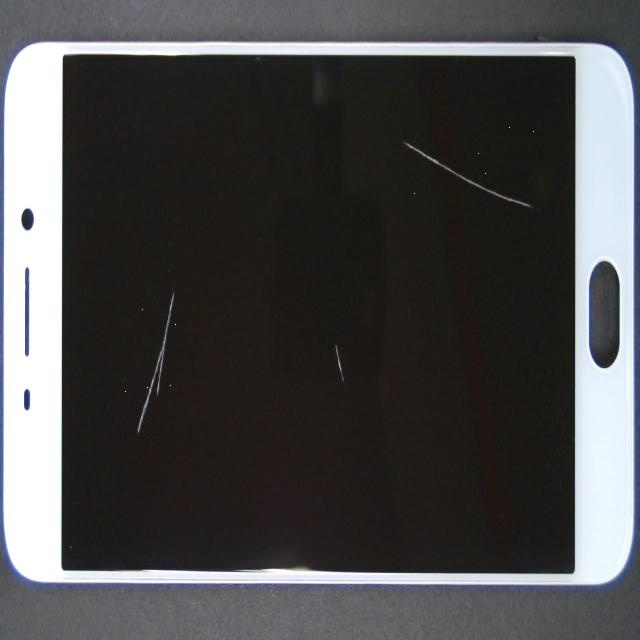scratch: (156, 153, 498, 569), (129, 47, 640, 269), (60, 226, 188, 640)
